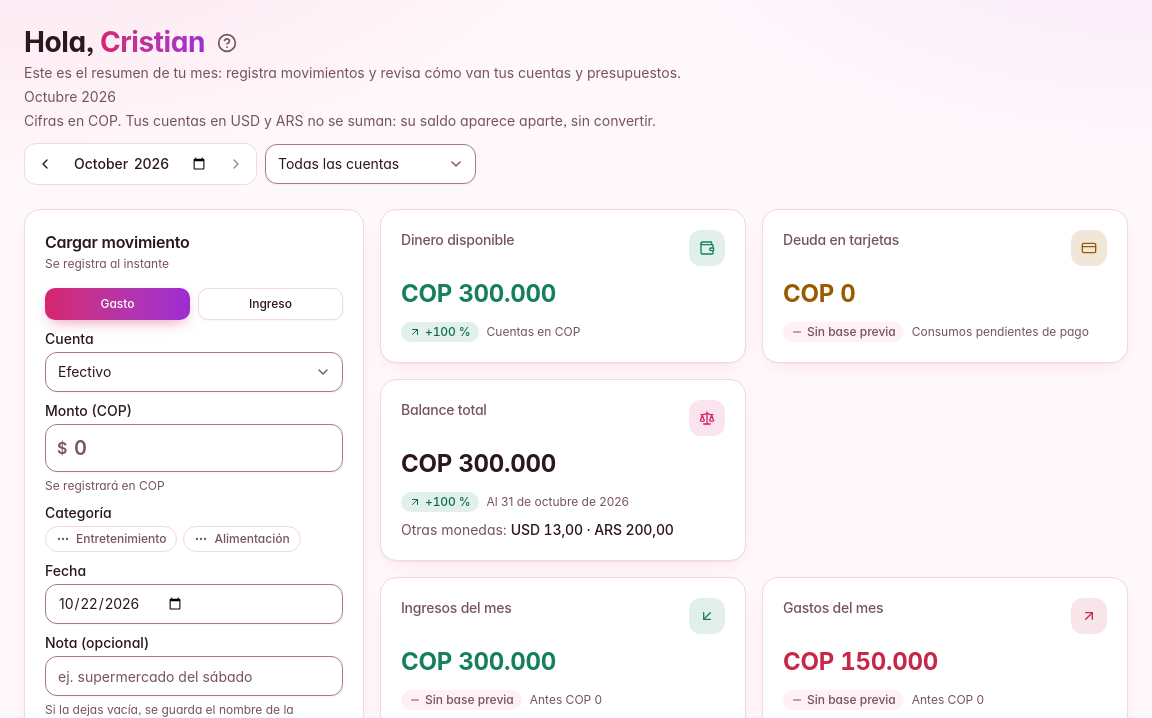
Test: Dashboard › con cuentas en varias monedas › al elegir una cuenta en otra moneda todo pasa a esa moneda, sin saldos aparte
The width and height of the screenshot is (1152, 718).
Select "Cuenta USD" in the dropdown named "Cuenta". click: (370, 164)
box: [265,144,476,184]
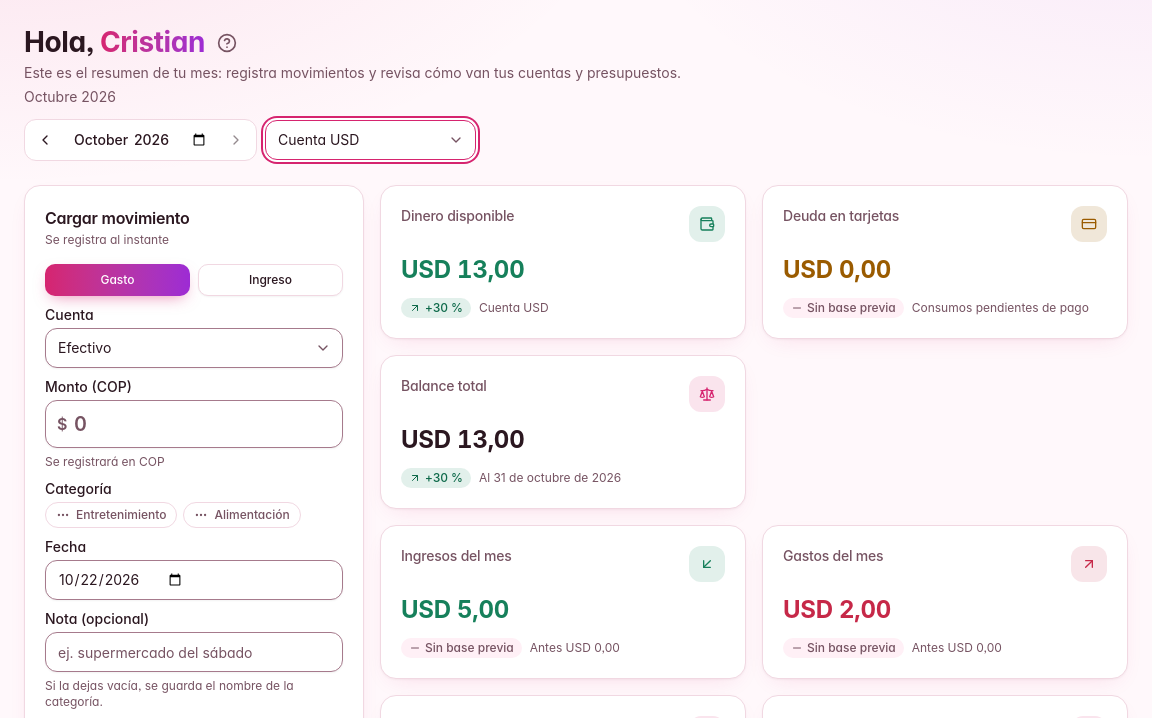
Result: the text "USD 13,00" below "Balance total" is shown at [401,425,524,454]
Result: the text "USD 2,00" is shown at [783,595,891,624]
Result: the text "Otras monedas" is gone
